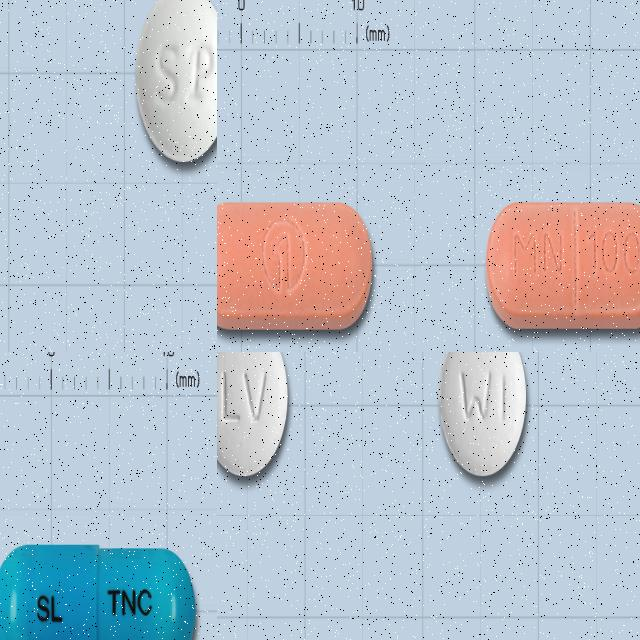Lefocin: (134, 0, 217, 162)
Monocin: (486, 203, 640, 331), (217, 202, 373, 327)
Triumeq Tab: (0, 541, 196, 640)
Withus Levofloxacin Tab: (438, 352, 529, 478), (217, 352, 289, 477)
